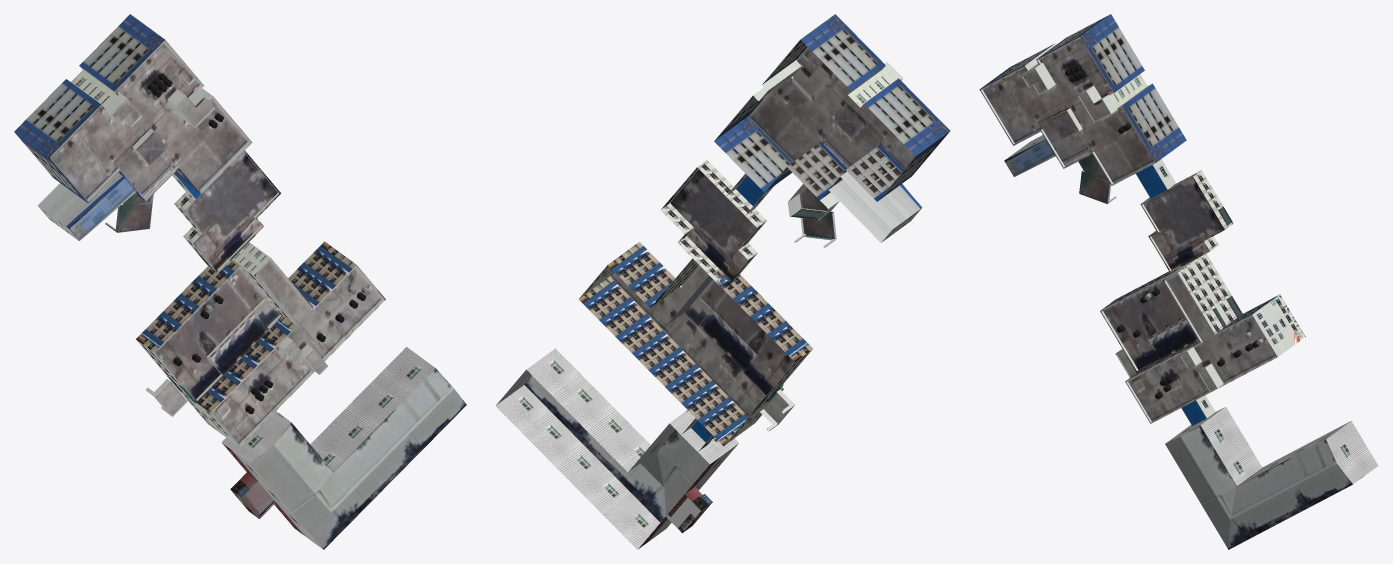
File: Civil_Hospital.glb
3 renders of one model, left to right at view 1: azimuth 30°, elevation 25°; view 2: azimuth 150°, elevation 25°; view 3: azimuth 330°, elevation 25°, orthographic. The views are drawn at different scales.
Parts seen in each view (by area): view 1: Plane.001, Plane, Cube.013, Plane.002, Cube.011, Cube.009, Plane.003, Cube.007, Cube.012, Cube.017, Cube.006, Cube.008 (+1 smaller); view 2: Plane.001, Plane, Cube.011, Plane.002, Cube.009, Cube.013, Plane.003, Cube.016, Cube.012, Cube.017, Cube.001, Cube.010; view 3: Plane.001, Plane, Cube.013, Cube.009, Plane.002, Cube.011, Plane.003, Cube.010, Cube.007, Cube.017, Cube.006, Cube.014 (+1 smaller).
Part boxes in pixels (x1,y1,x2,y2): Plane.001: (14, 14, 252, 202); Plane: (179, 241, 385, 447); Cube.013: (251, 368, 466, 549); Plane.002: (136, 259, 282, 402); Cube.011: (221, 347, 435, 548); Cube.009: (174, 150, 280, 272); Plane.003: (37, 173, 136, 241); Cube.007: (167, 89, 215, 128); Cube.012: (230, 472, 275, 518); Cube.017: (115, 201, 152, 232); Cube.006: (104, 92, 142, 127); Cube.008: (132, 129, 168, 166); Plane.001: (714, 14, 950, 201); Plane: (578, 242, 784, 445); Cube.011: (496, 348, 738, 549); Plane.002: (685, 268, 813, 411); Cube.009: (660, 160, 766, 288); Cube.013: (524, 376, 737, 522); Plane.003: (829, 171, 922, 242); Cube.016: (787, 184, 839, 220); Cube.012: (666, 487, 710, 533); Cube.017: (800, 211, 836, 240); Cube.001: (760, 389, 795, 426); Cube.010: (726, 173, 773, 214); Plane.001: (979, 14, 1186, 185); Plane: (1125, 253, 1305, 423); Cube.013: (1165, 425, 1352, 549); Cube.009: (1140, 170, 1233, 272); Plane.002: (1100, 267, 1198, 372); Cube.011: (1166, 407, 1378, 485); Plane.003: (1004, 135, 1055, 176); Cube.010: (1136, 159, 1176, 198); Cube.007: (1077, 85, 1117, 122); Cube.017: (1079, 170, 1110, 203); Cube.006: (1021, 63, 1055, 94); Cube.014: (1181, 395, 1215, 425).
Size of the model in its own units: 139 by 174 by 24.09.
2 materials, 2 textured.
